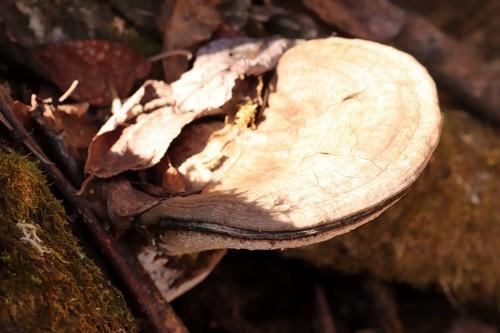Ganoderma - Fruit Body: (137, 31, 443, 253)
